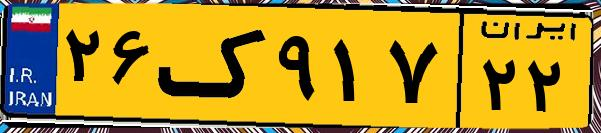1: (330, 28, 385, 110)
2: (57, 26, 110, 100), (475, 38, 525, 113), (525, 38, 570, 115)
6: (110, 28, 158, 98)
7: (385, 28, 445, 110)
9: (270, 28, 330, 110)
ک: (158, 12, 270, 120)
